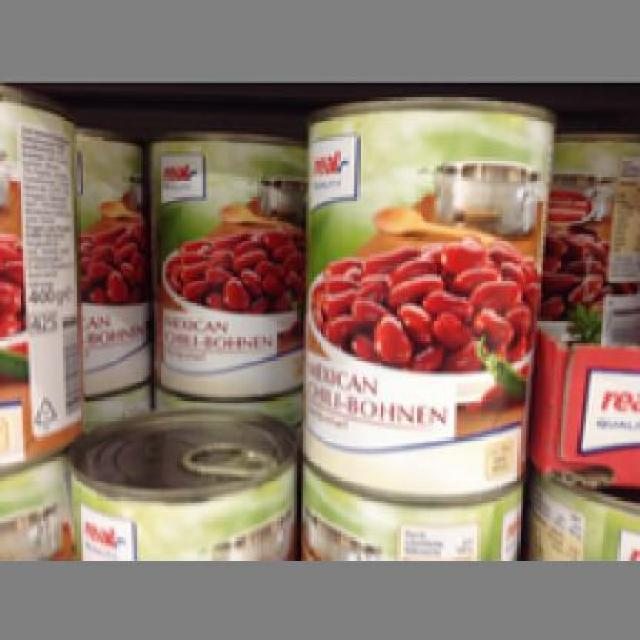Beans: (296, 91, 550, 498), (143, 122, 300, 398)
